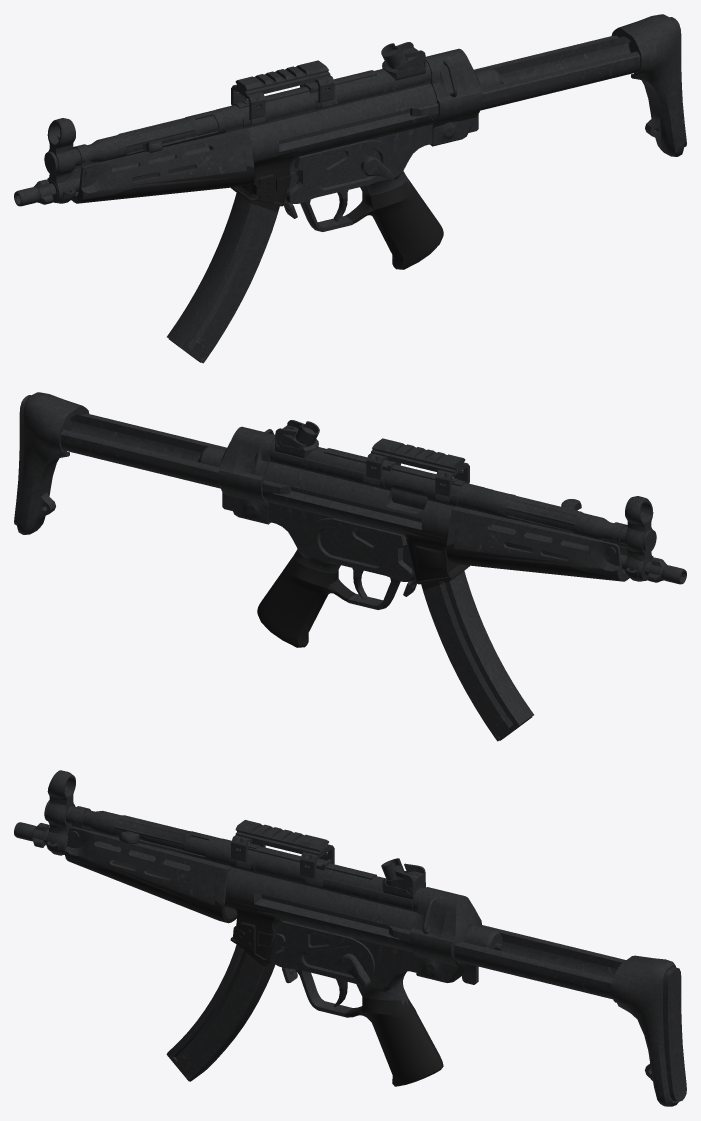
3 views of the same model, one above another, from view 1: azimuth 30°, elevation 25°; view 2: azimuth 150°, elevation 25°; view 3: azimuth 330°, elevation 25° (orthographic).
Visible parts, largest first — view 1: mp5; view 2: mp5; view 3: mp5.
Boxes of the visible parts, <box> form: mp5: <box>14,14,686,363</box>; mp5: <box>14,392,686,741</box>; mp5: <box>14,770,686,1106</box>.
Bounding box in the file's own units: 0.68 × 0.2661 × 0.0584.
2 materials, 2 textured.
